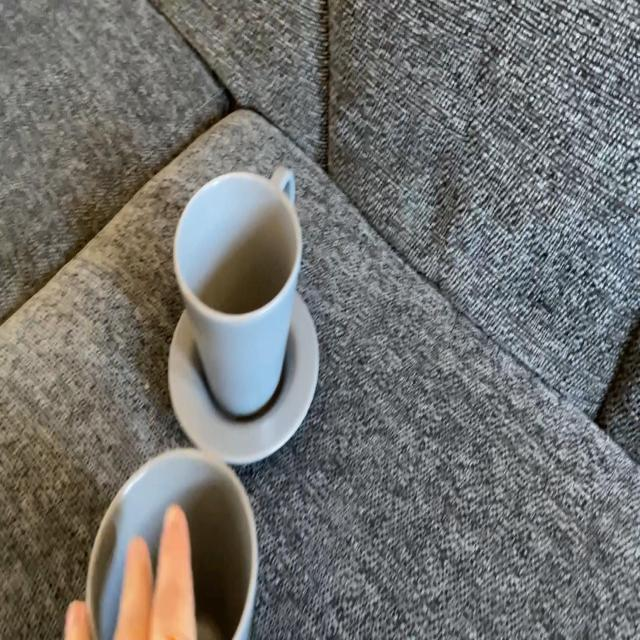cup: (168, 170, 304, 416)
